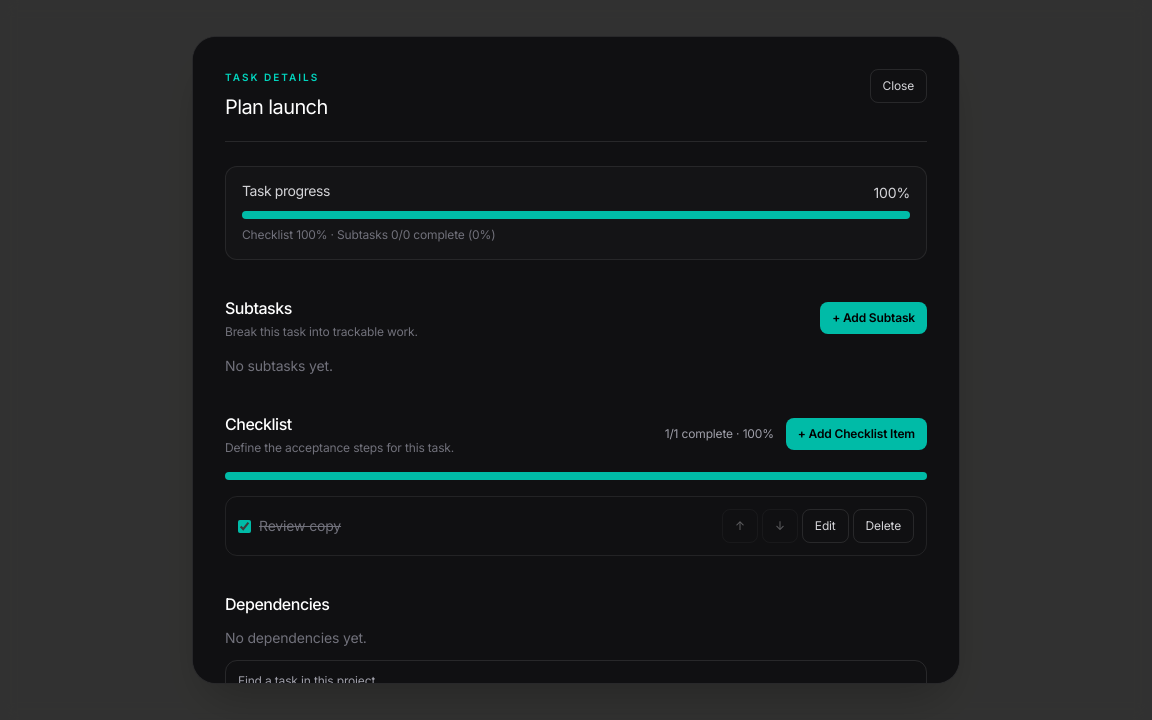
it: task details GraphQL integration › creates a subtask and refetches the list
Expected: the text "No subtasks yet." is shown, [225,357,333,374]
Step 1. Click the button "+ Add Subtask" → click(874, 318), box [820,302,927,334]
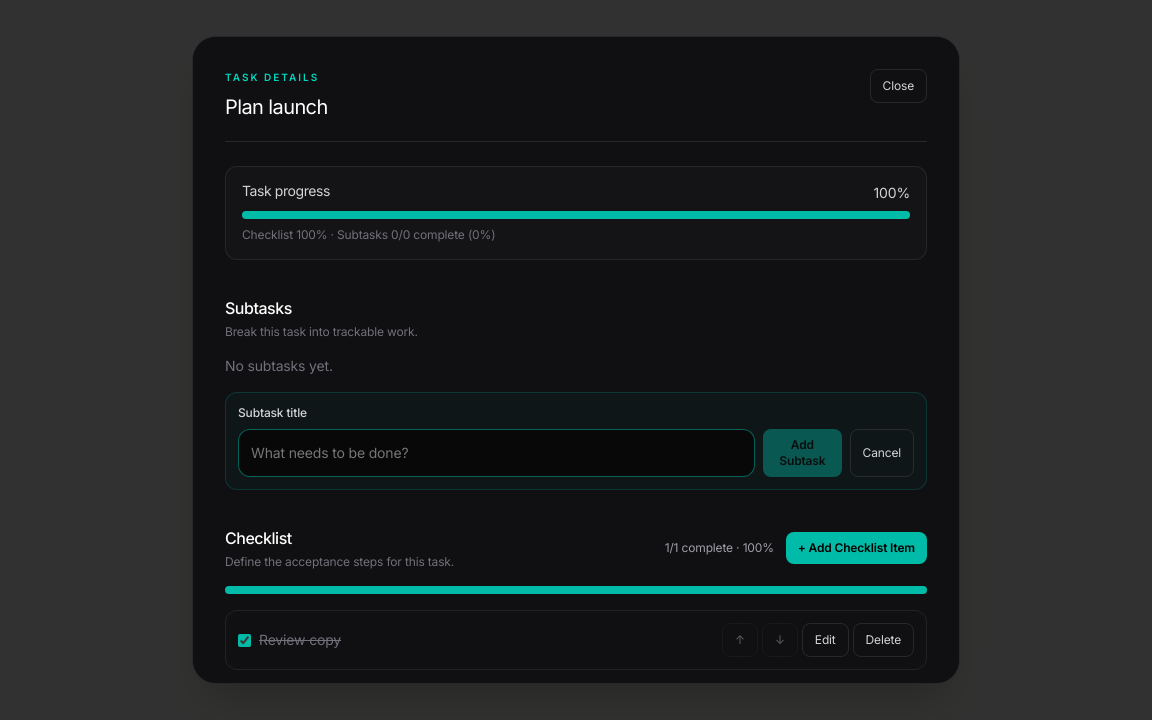
Step 2. Type "Write copy" into the field named "New subtask title" → (497, 453), box [238,429,755,477]
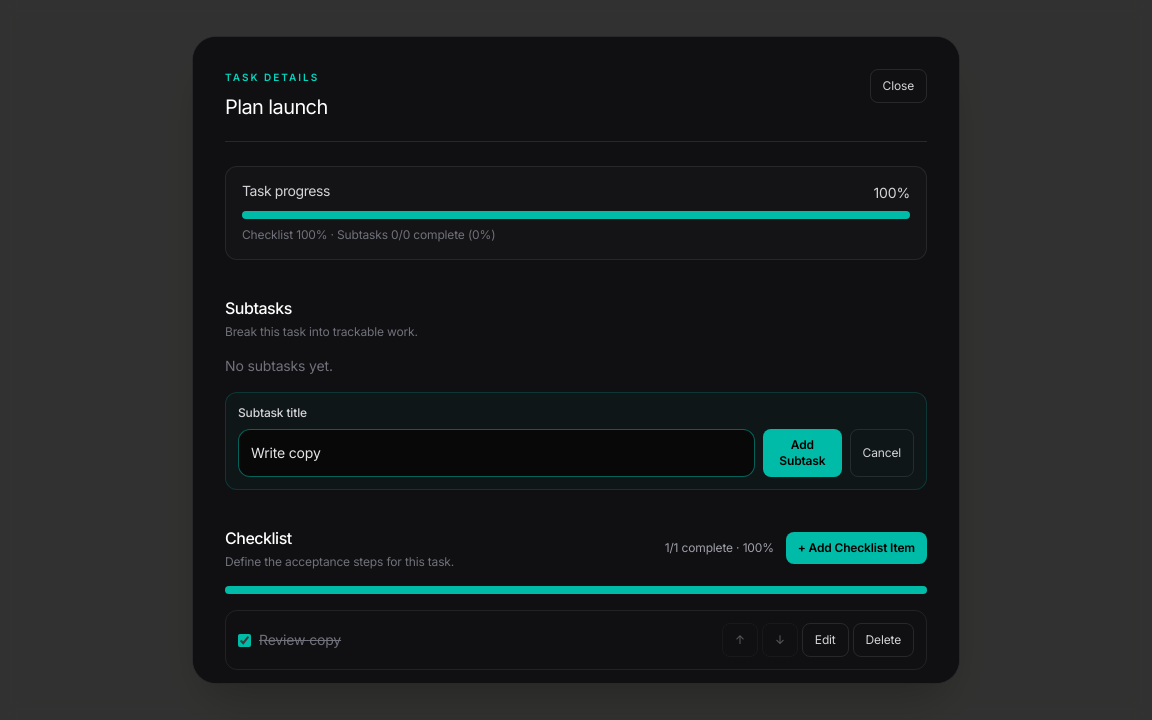
Step 3. Click the button "Add Subtask" → click(802, 453), box [763,429,842,477]
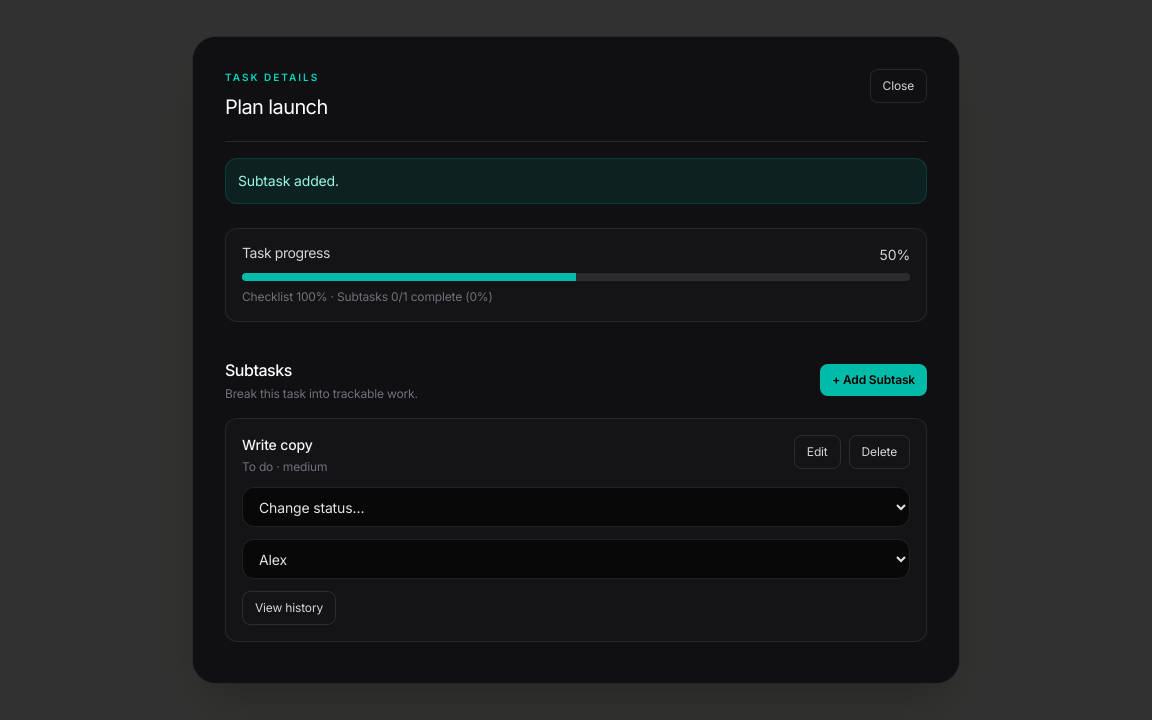
Expected: the text "Write copy" is shown, [242,436,313,453]
Expected: the text "Checklist 100% · Subtasks 0/1 complete (0%)" is shown, [242,289,493,304]
Expected: the message reads "Subtask added.", [238,172,339,189]
